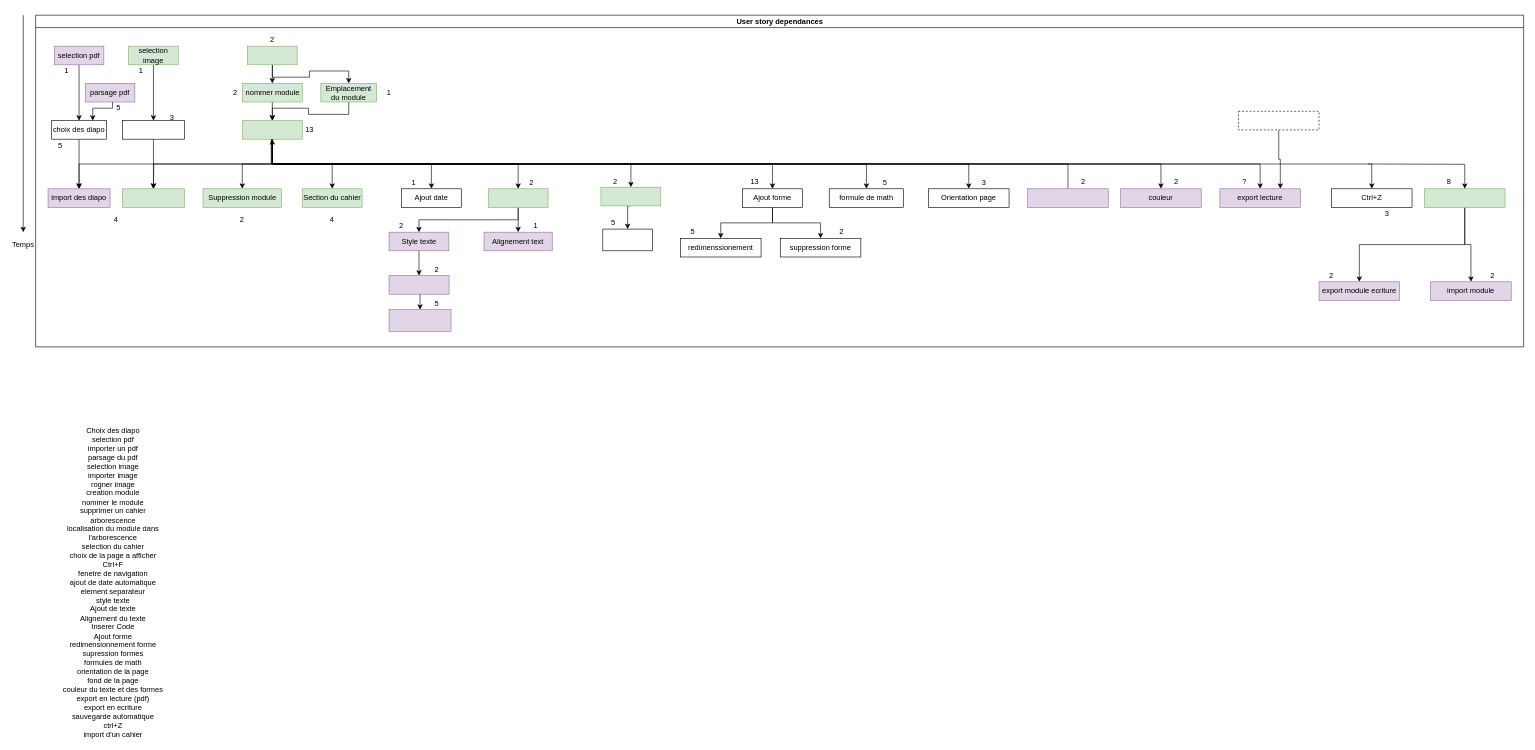
The diagram is 1535 pixels wide and 750 high, and some of its shapes have lost their labels. Here are the shapes that lost their labels. From the top down, the box of each, then its label:
(247, 46, 297, 65): arborescence
(122, 120, 184, 139): rogner image
(242, 120, 302, 139): creation module
(1238, 111, 1319, 130): veille parsage
(122, 188, 184, 207): import image
(488, 188, 548, 207): Ajout texte
(600, 187, 661, 206): Changer de page
(1027, 188, 1108, 207): Fond page
(1424, 188, 1505, 207): Sauvegarde auto
(602, 228, 652, 251): Ctrl-F
(388, 275, 449, 294): inserer code
(388, 309, 451, 331): couleurs syntaxiques
